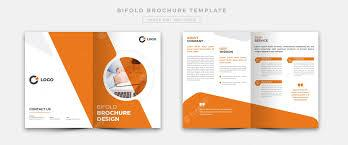paper: (182, 26, 329, 129), (24, 26, 162, 129)
